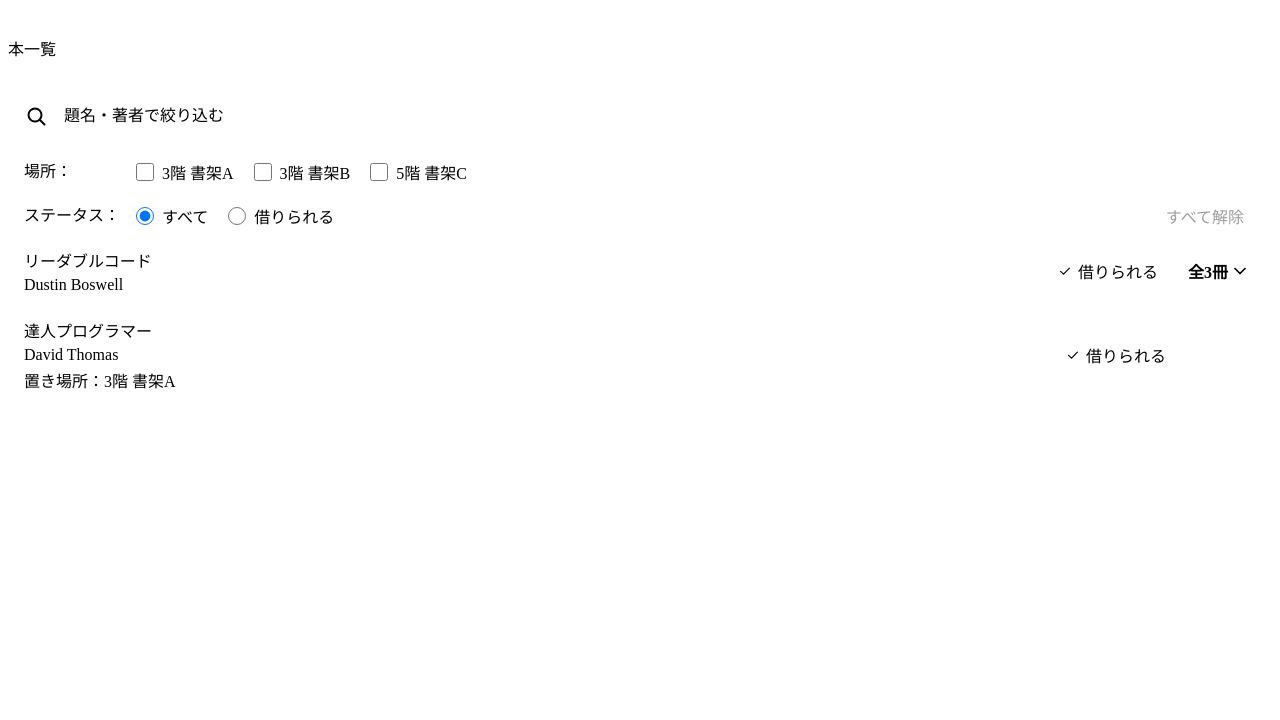
Scenario: BookListPage の同じ本のまとまり › SB-42: 開いたまとまりの行をもう一度押すと閉じる
This screenshot has width=1280, height=720.
Click the button "リーダブルコード Dustin Boswell 借りられる 全3冊".
click(88, 262)  # box [8, 236, 1272, 306]
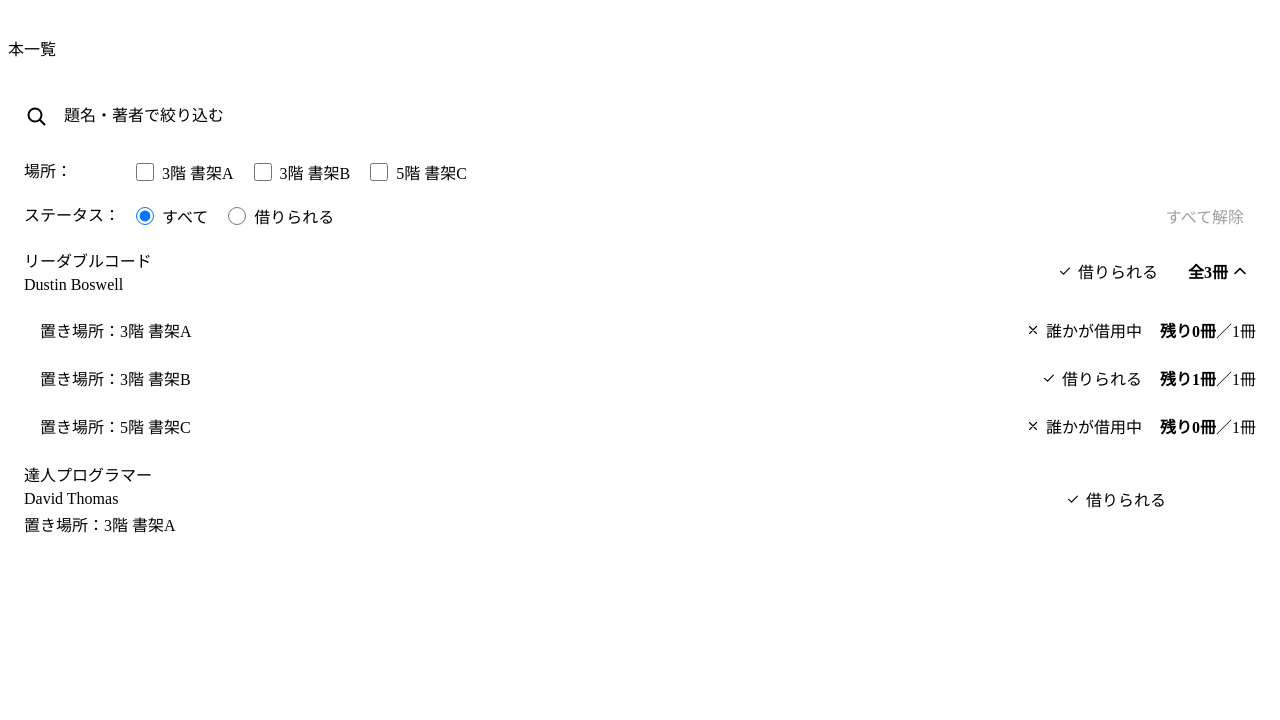
Click the button "リーダブルコード Dustin Boswell 借りられる 全3冊".
click(88, 262)  # box [8, 236, 1272, 306]
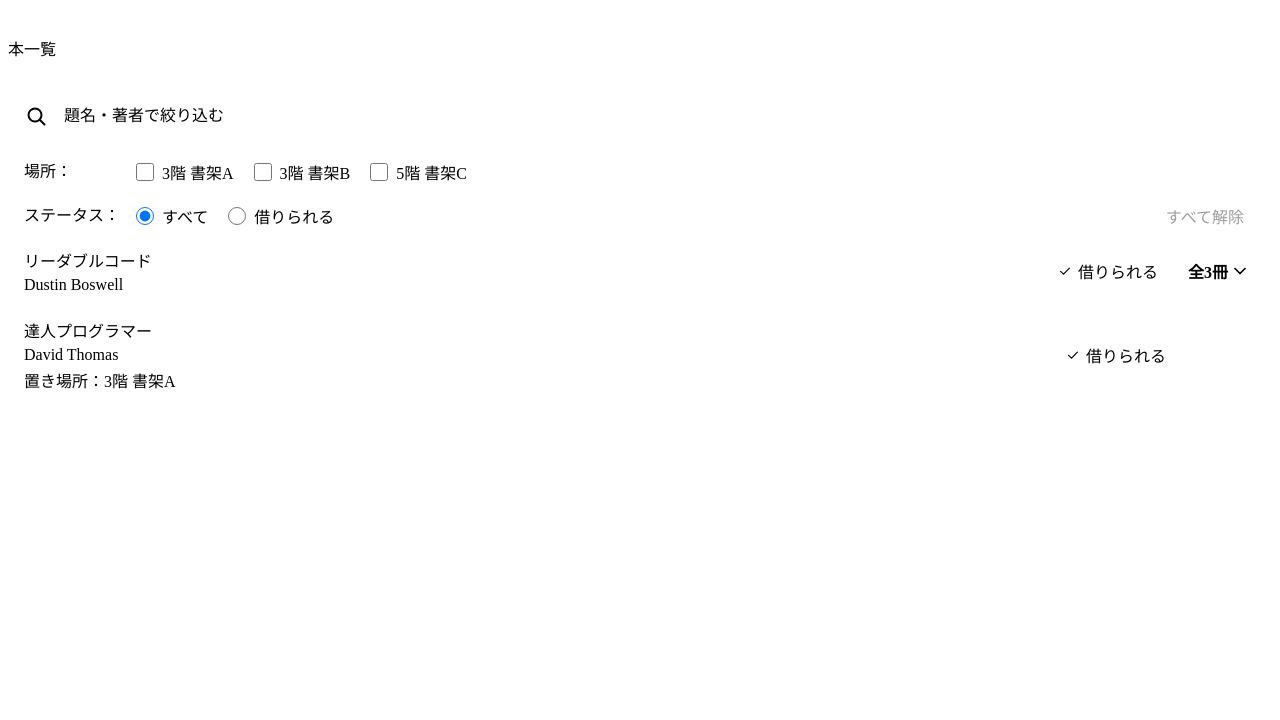
expect the button "リーダブルコード Dustin Boswell 借りられる 全3冊" is collapsed: met, box [8, 236, 1272, 306]
expect the list "リーダブルコードの3冊" is gone: met
